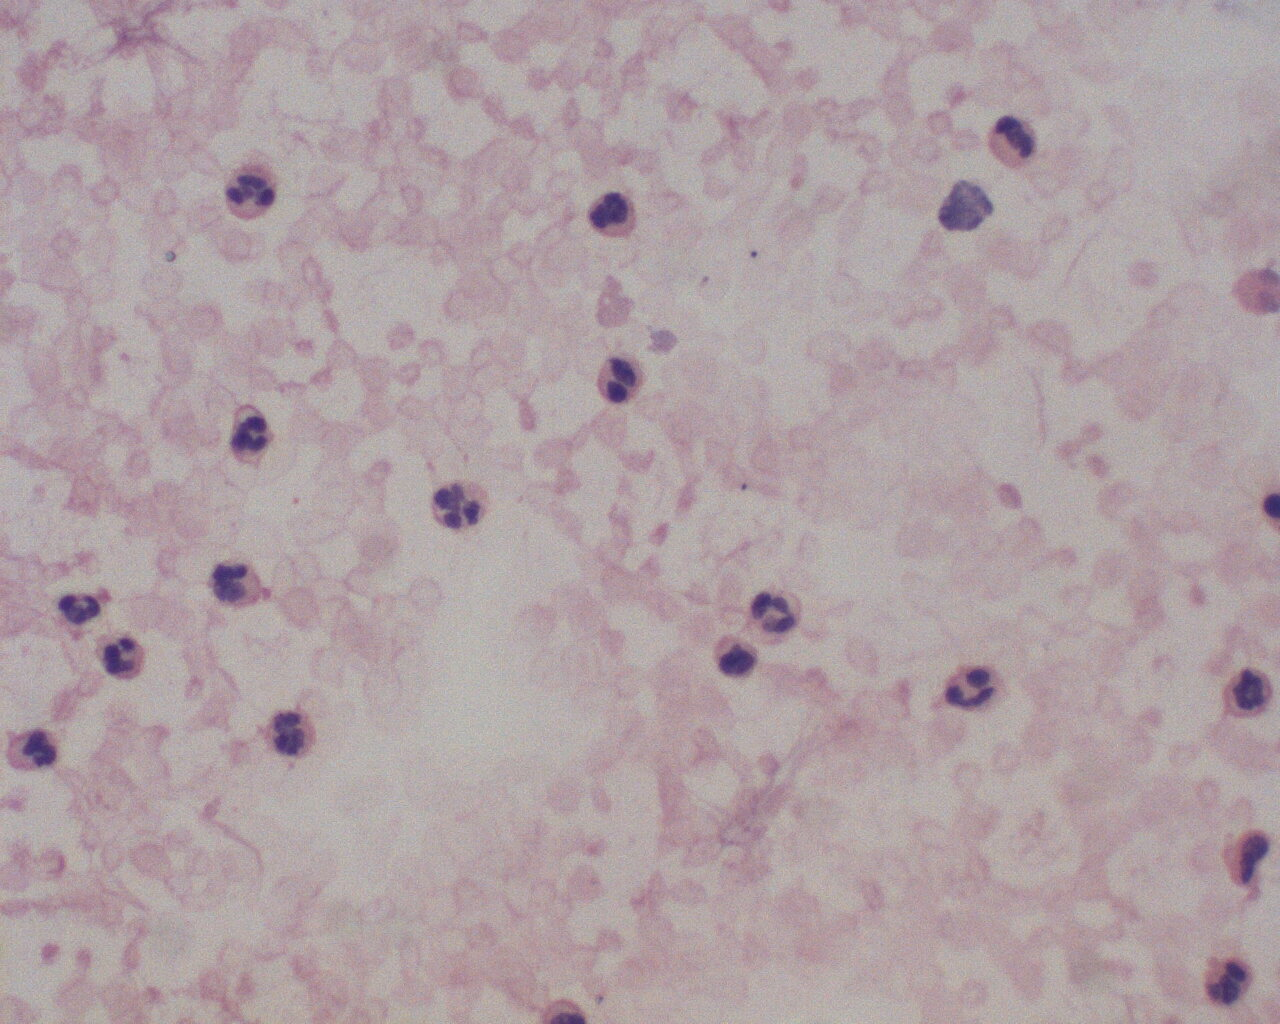neutro: (421, 467, 499, 537), (217, 160, 288, 227), (936, 661, 1009, 723), (220, 405, 279, 474), (1220, 667, 1277, 724), (985, 112, 1041, 169), (745, 588, 802, 642), (1200, 952, 1253, 1009), (8, 724, 66, 776), (94, 634, 154, 683), (586, 190, 643, 239)
